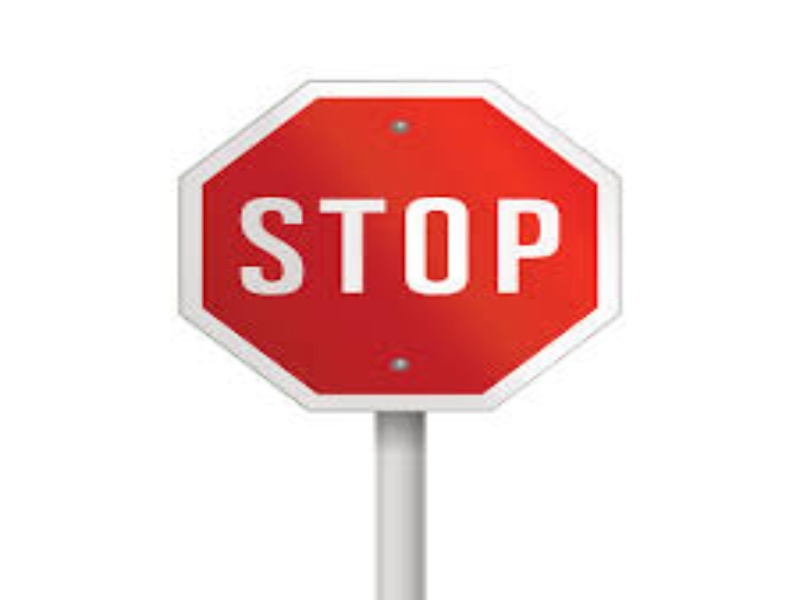Stop_Sign: (184, 84, 617, 403)
